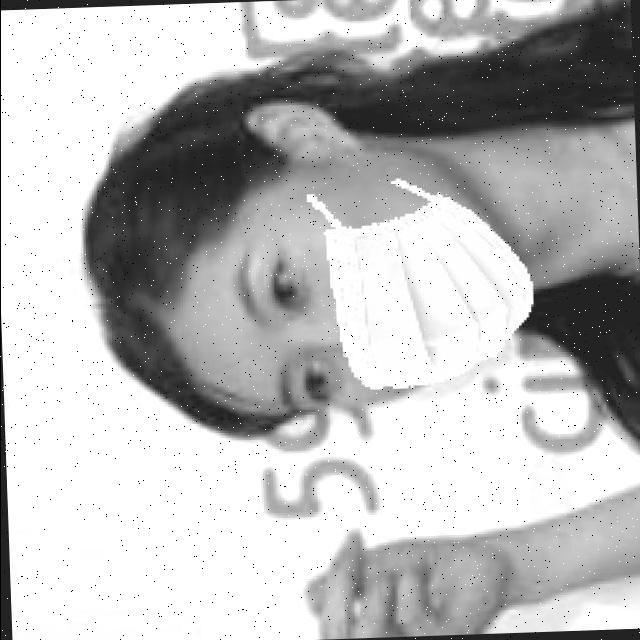mask: (319, 194, 519, 398)
no_apron: (294, 511, 525, 640)
no_gloves: (102, 140, 240, 388)
